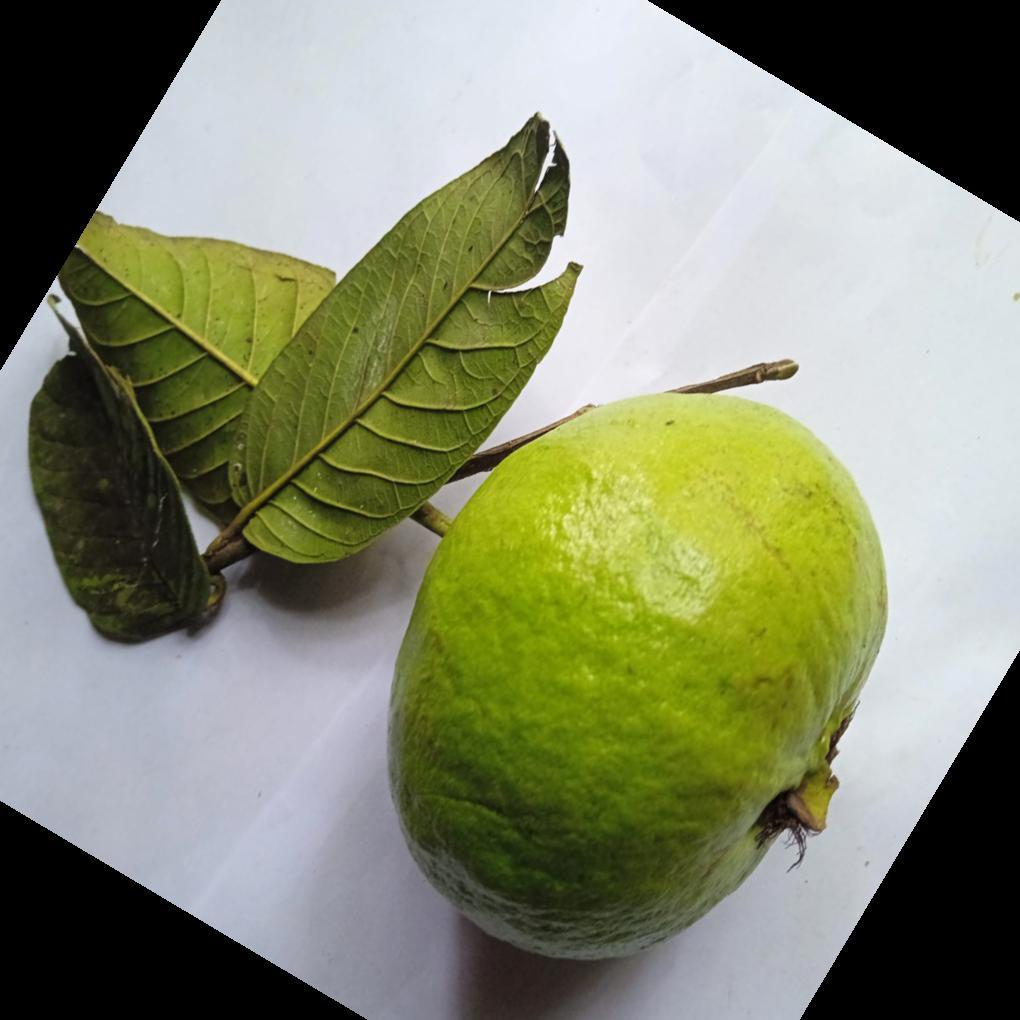FreshGuava: (385, 391, 889, 966)
